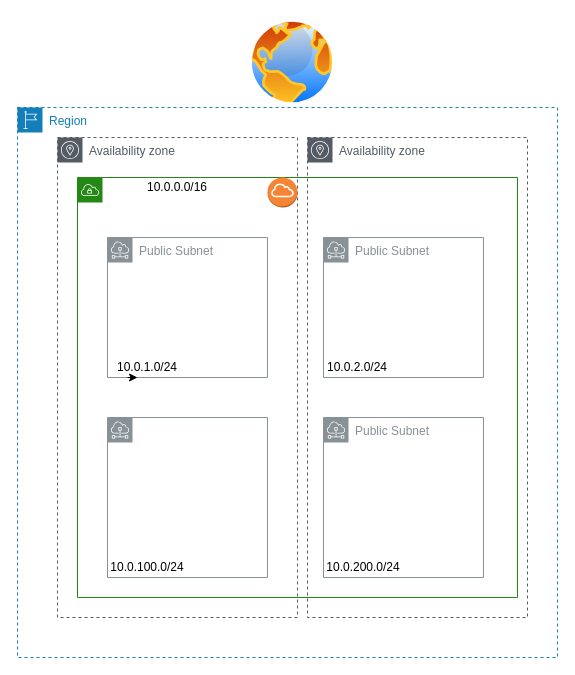
Some shapes in this 575 by 675 pixel diagram are drawn without their labels. The shapes that lost their labels are listed below. From the top down, each one's box as (x1, y1, x2, y2) in pixels, then its label:
(266, 176, 298, 208): IGW
(76, 176, 518, 598): VPC
(106, 416, 268, 578): Private Subnet
